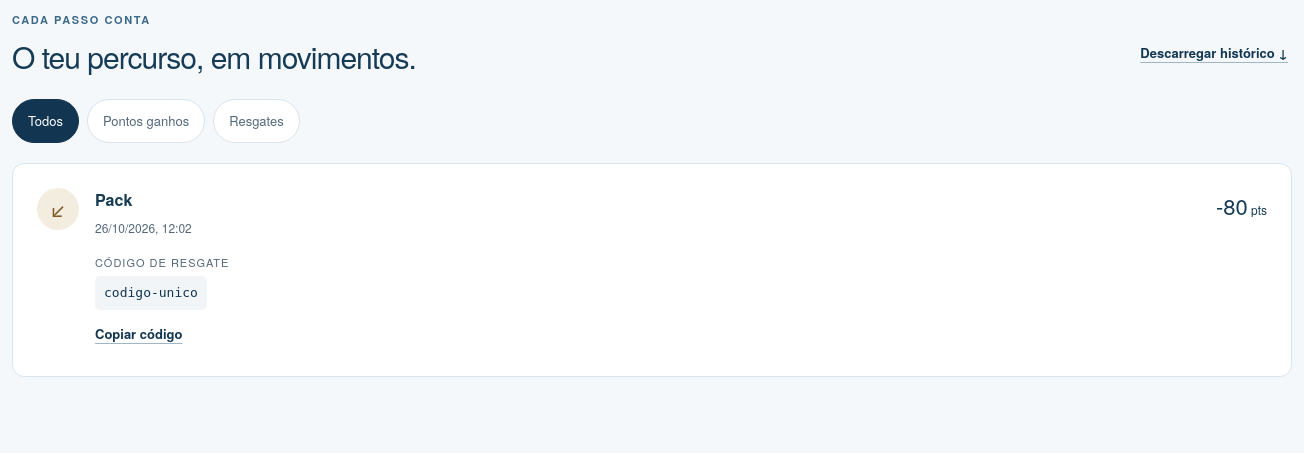
apresenta uma alternativa quando não consegue copiar o código
What coordinates should you click on to do the following:
click the button with aria-label "Copiar código de Pack"
I would click on:
 (139, 334)
Its box is [95,316,182,352].
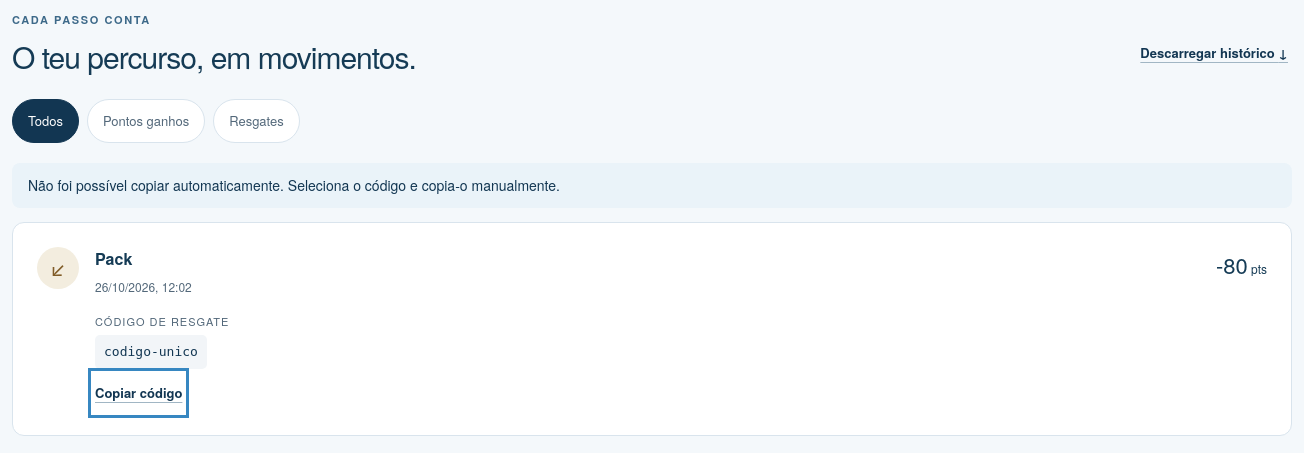
Now the message shows "copia-o manualmente", box [28,174,560,194]
